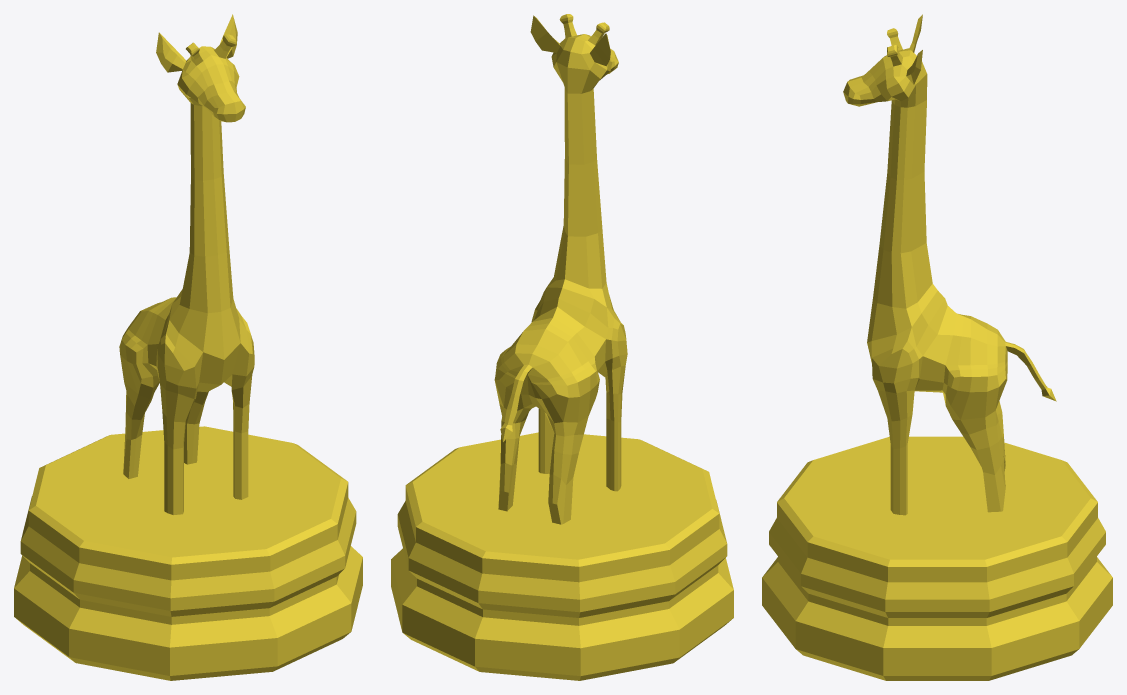
File: GirafPokal_Model.fbx
3 views of the same model, side by side, from view 1: azimuth 30°, elevation 25°; view 2: azimuth 150°, elevation 25°; view 3: azimuth 270°, elevation 25° (orthographic).
Parts seen in each view (by area): view 1: PokalGiraf; view 2: PokalGiraf; view 3: PokalGiraf.
Boxes of the visible parts, x1=… form: PokalGiraf: x1=14, y1=14, x2=362, y2=680; PokalGiraf: x1=391, y1=14, x2=733, y2=680; PokalGiraf: x1=762, y1=14, x2=1112, y2=680.
Bounding box in the file's own units: 348 × 670 × 366.
